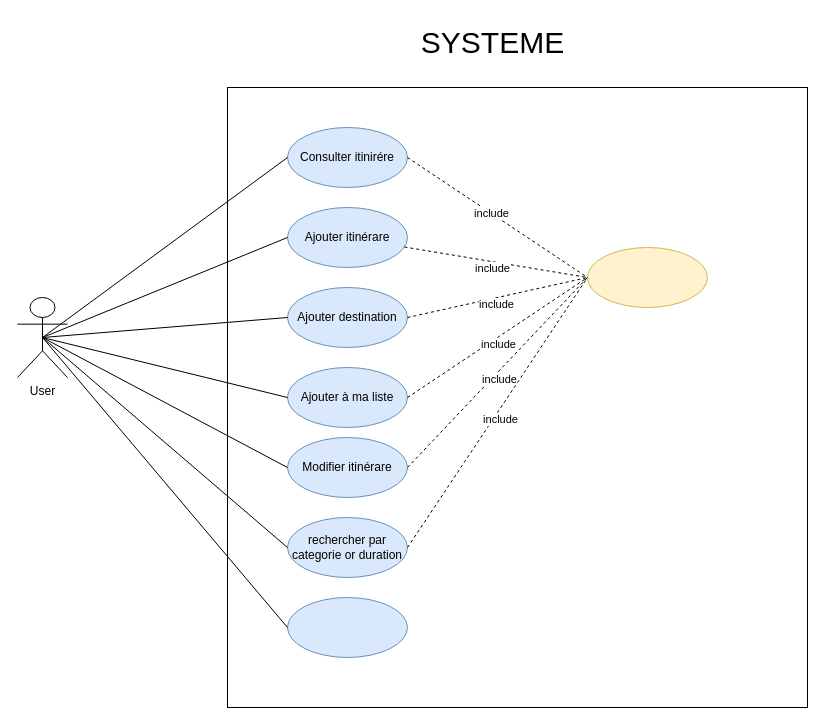
This 825x725 diagram has some shape labels left out. Each missing label, with the centre of its shape:
"Authentification" belongs at point (647, 277).
"Register" belongs at point (347, 627).
